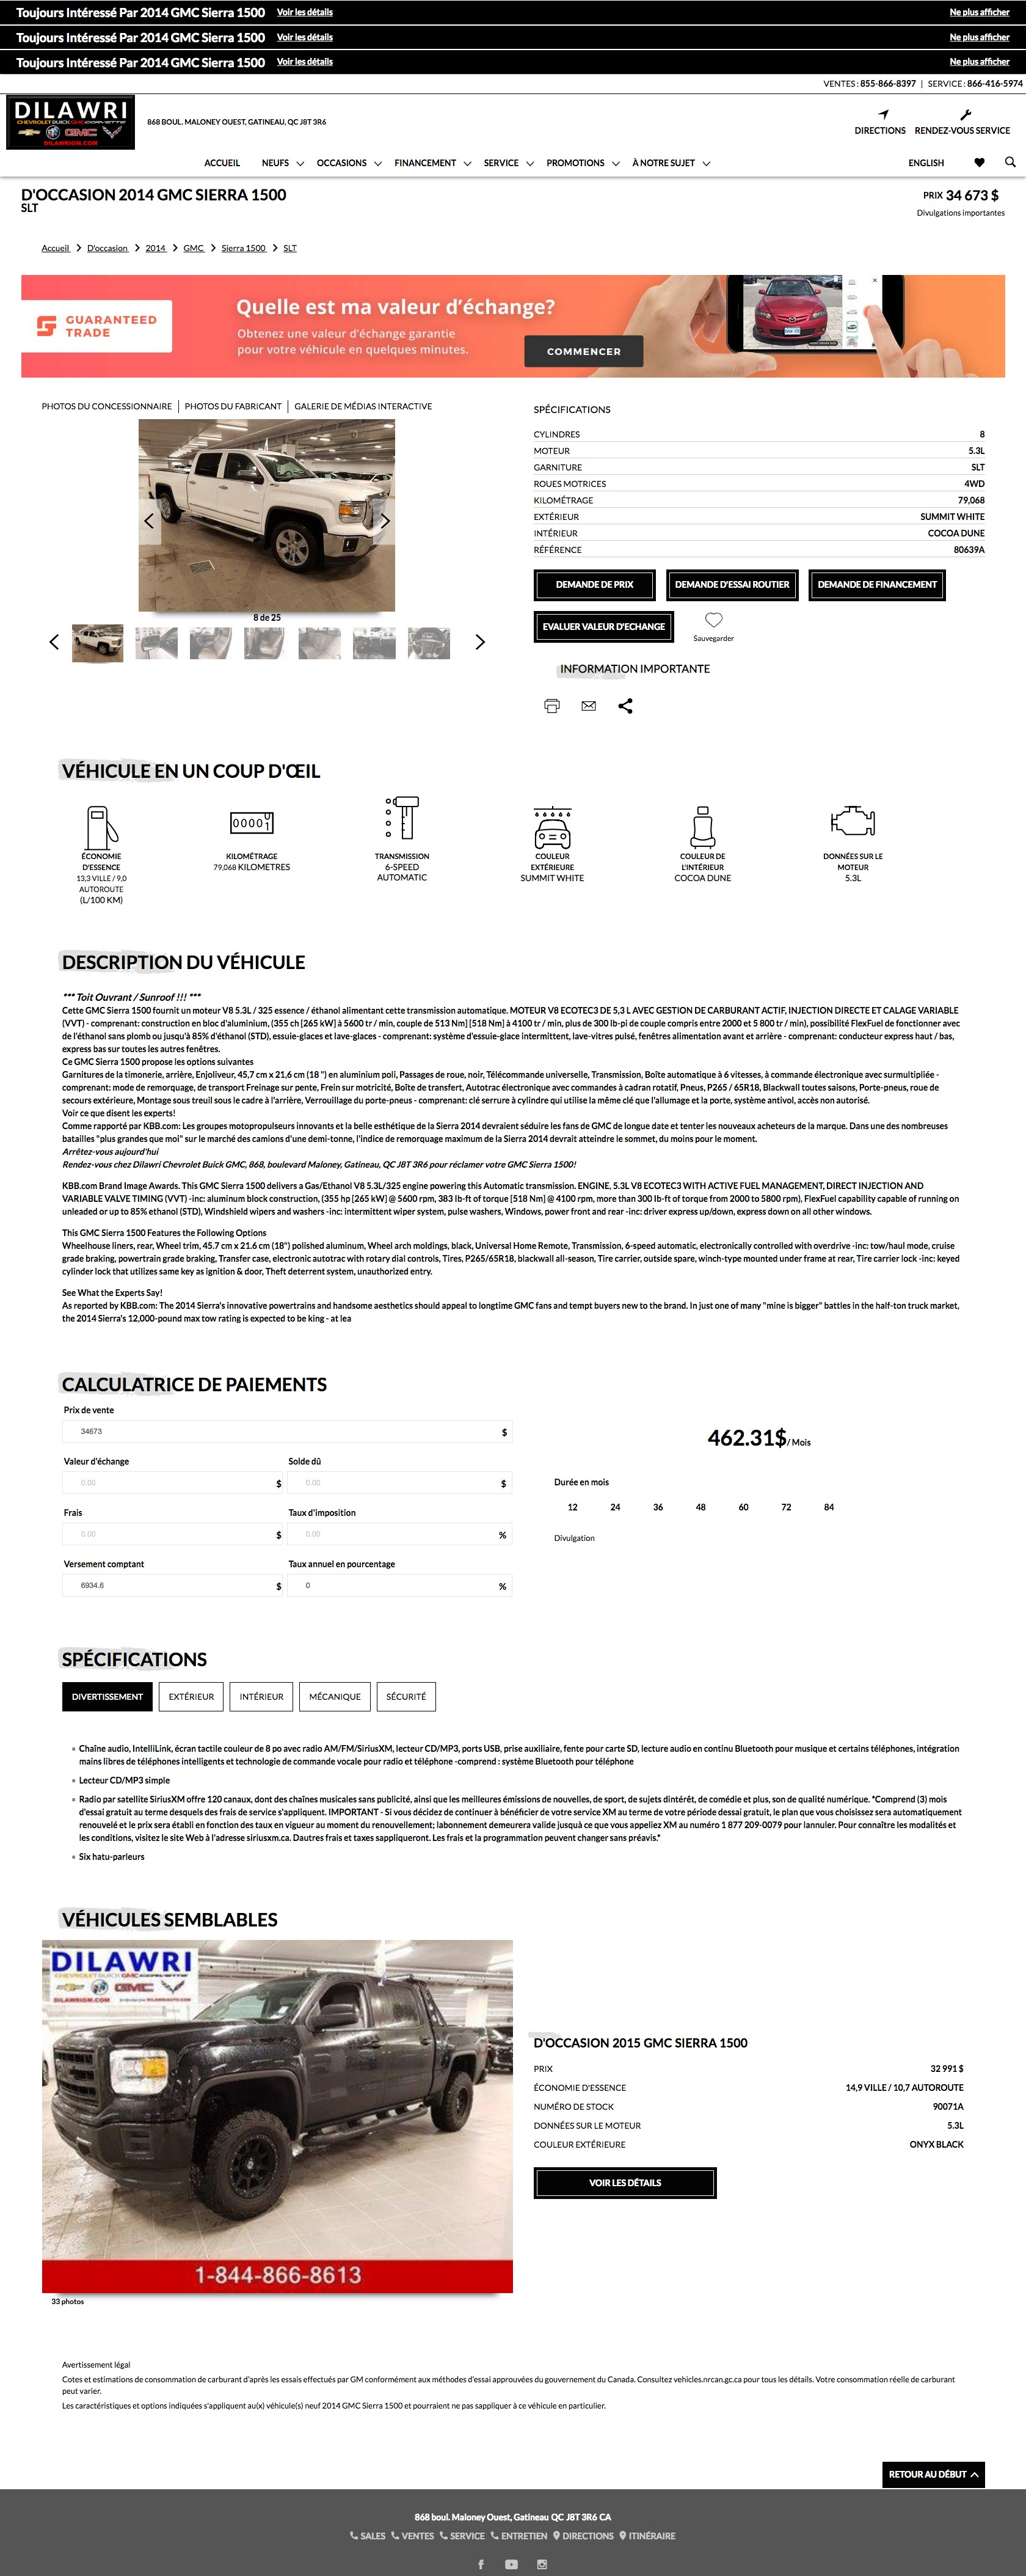car: (476, 634, 486, 651)
